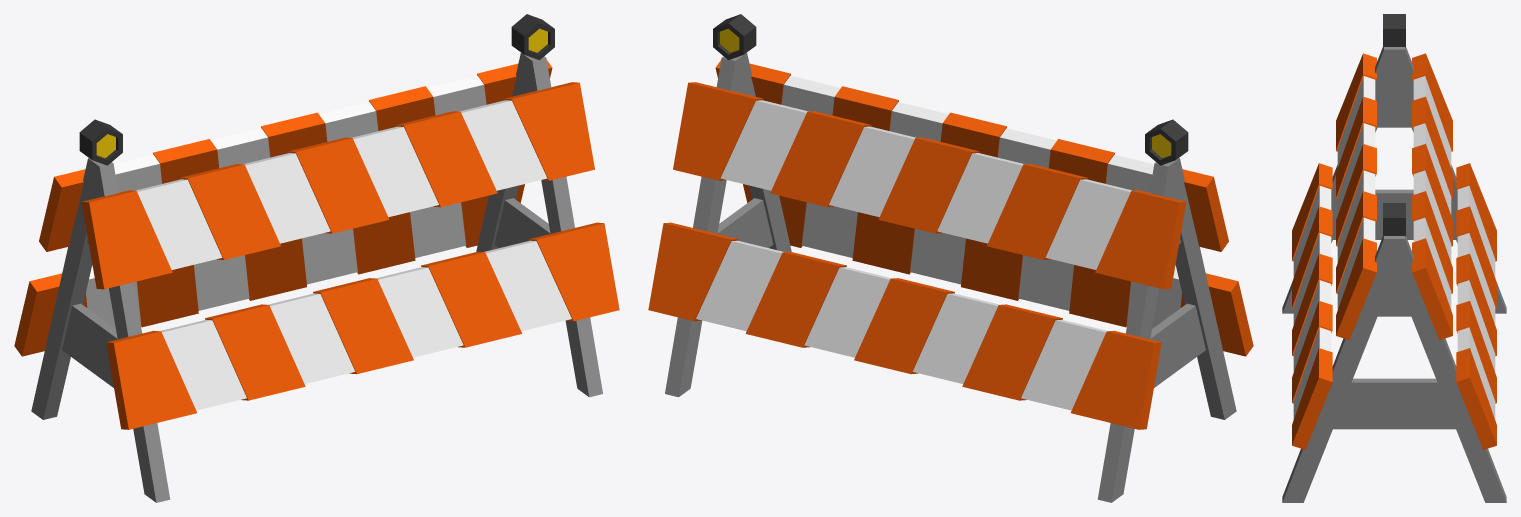
The model's file is obstacle2.fbx.
3 views of the same model, side by side, from view 1: azimuth 30°, elevation 25°; view 2: azimuth 150°, elevation 25°; view 3: azimuth 270°, elevation 25° (orthographic). The views are drawn at different scales.
Parts seen in each view (by area): view 1: Cube; view 2: Cube; view 3: Cube.
Part boxes in pixels (x1,y1,x2,y2): Cube: (14, 14, 619, 502); Cube: (648, 14, 1253, 502); Cube: (1282, 14, 1506, 502).
Size of the model in its own units: 110 by 70.89 by 48.53.
